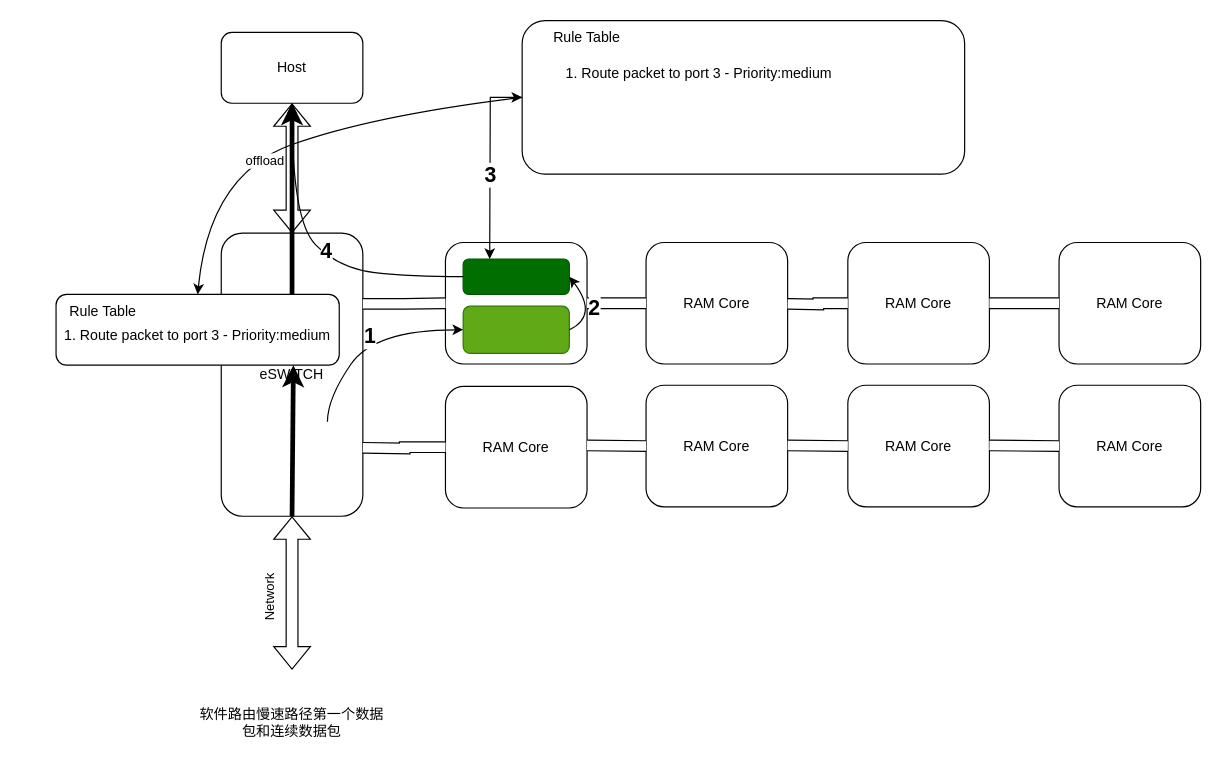
The diagram is 1221 pixels wide and 761 high, and some of its shapes have lost their labels. The centre of each missing label's shape, as x and y in pixels:
"DPDK" goes at (x=515, y=329).
"OVS" goes at (x=515, y=276).
